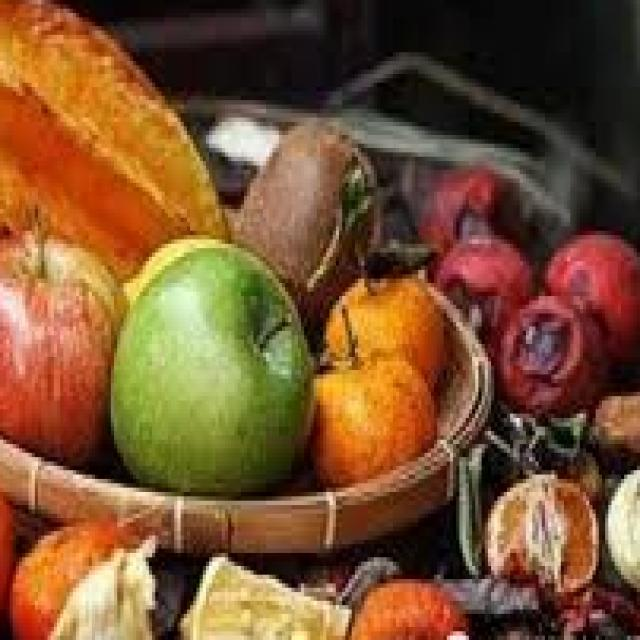inorganic: (98, 225, 341, 508), (4, 505, 474, 635), (1, 73, 259, 299), (0, 210, 147, 477), (233, 106, 407, 313), (435, 205, 586, 397), (330, 243, 470, 398), (309, 350, 451, 497), (485, 466, 605, 614), (552, 236, 634, 353)
